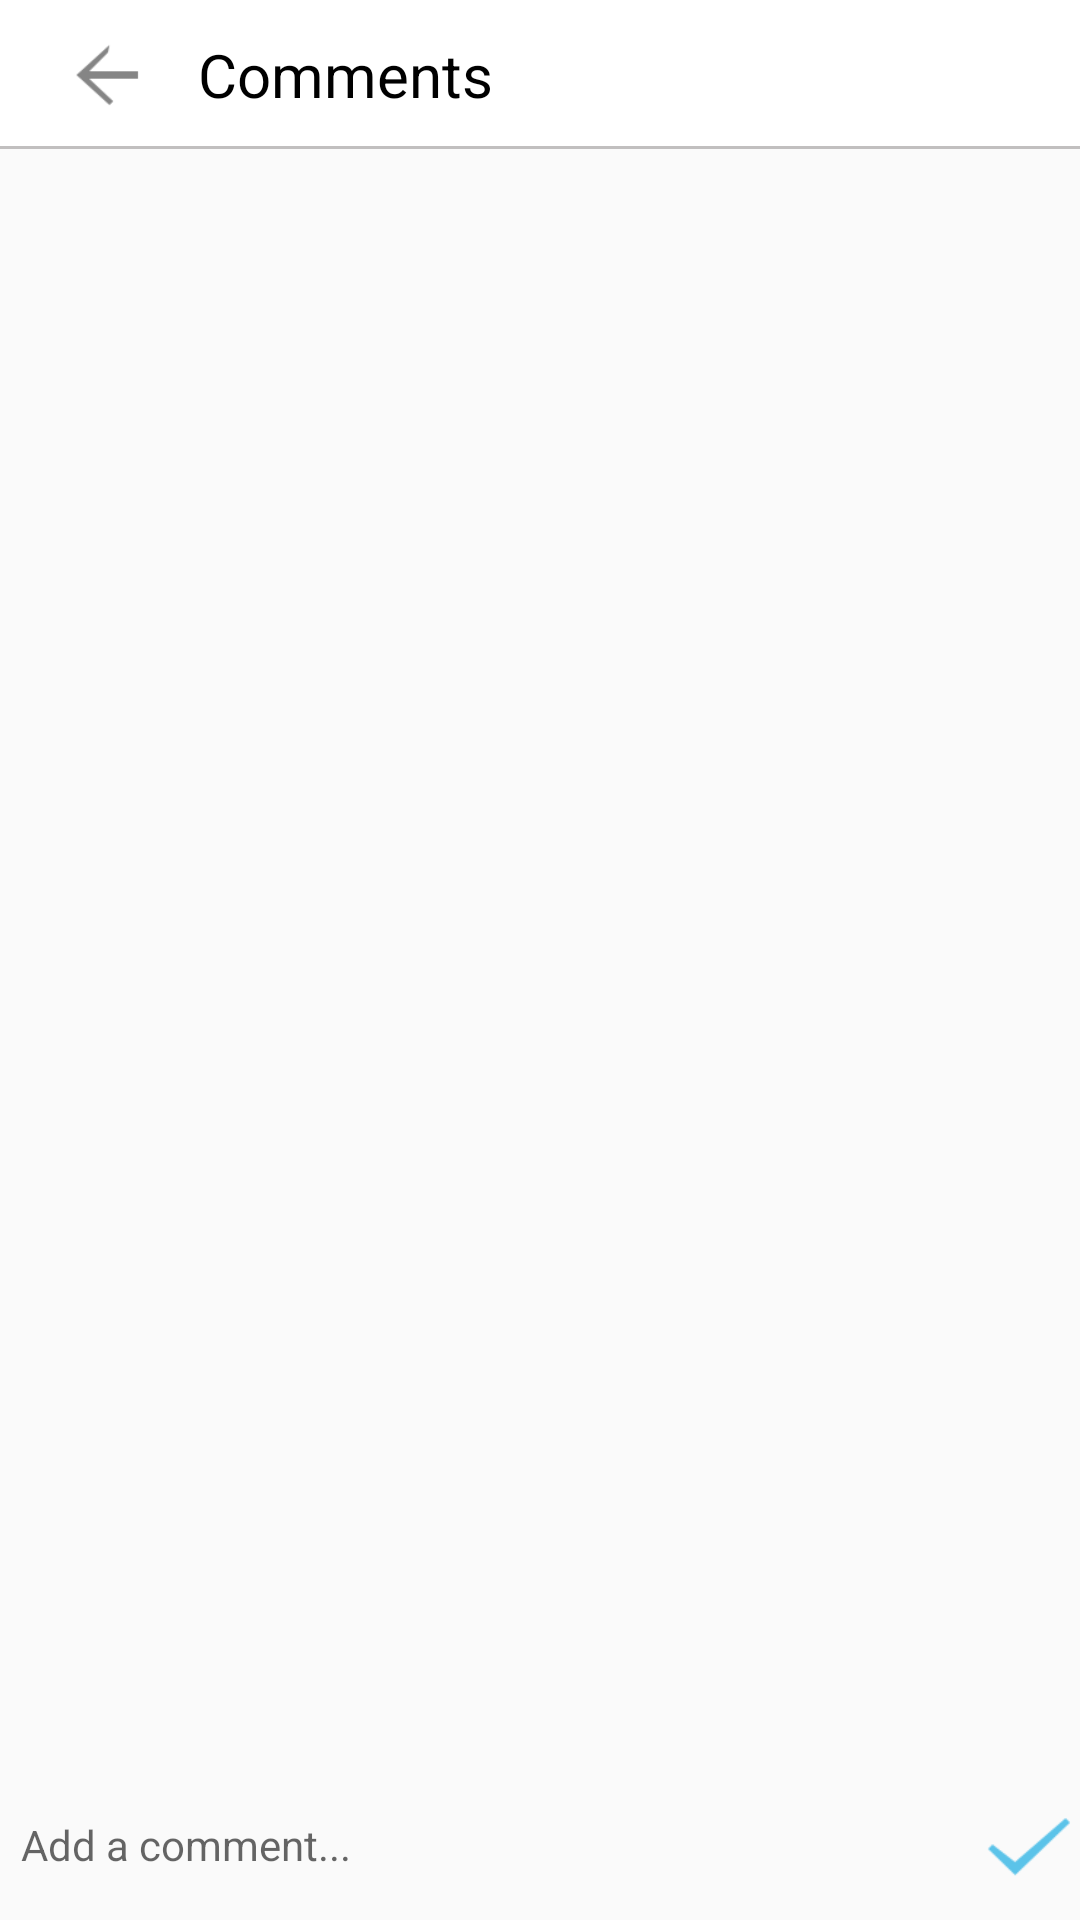

Locate icon controls on the screen. Image size 1080w x 1920h, boxes as BBox(x1, y1, x2, y2).
back: BBox(76, 45, 138, 105)
saved changes: BBox(988, 1818, 1070, 1875)
